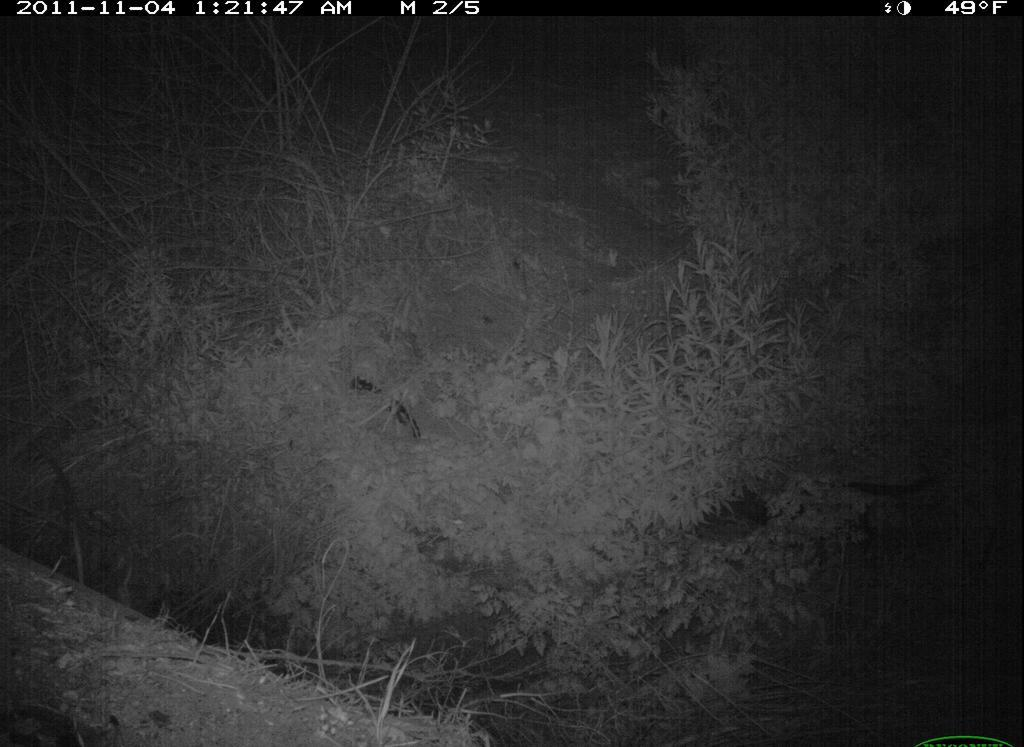cat: (697, 449, 937, 578)
